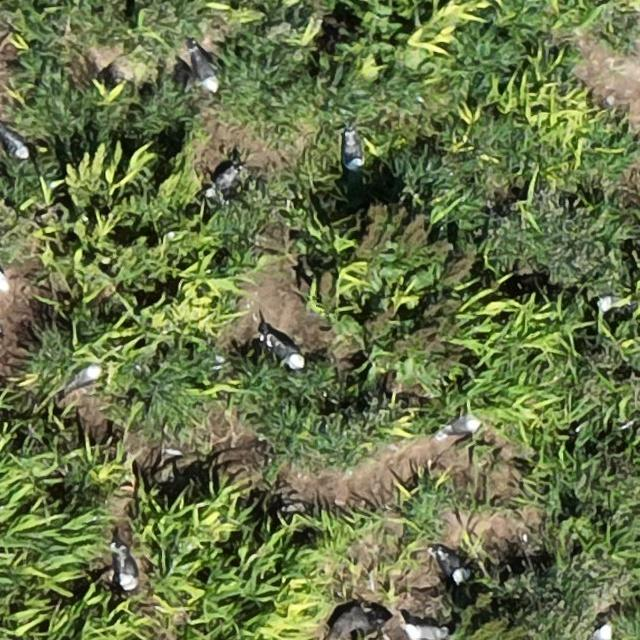umineko: (264, 331, 308, 372), (189, 46, 218, 95), (436, 547, 471, 585), (207, 162, 242, 198), (61, 365, 101, 395), (116, 546, 141, 592), (343, 126, 366, 170), (2, 128, 33, 158), (594, 294, 636, 312), (404, 622, 452, 636), (445, 415, 480, 434)
